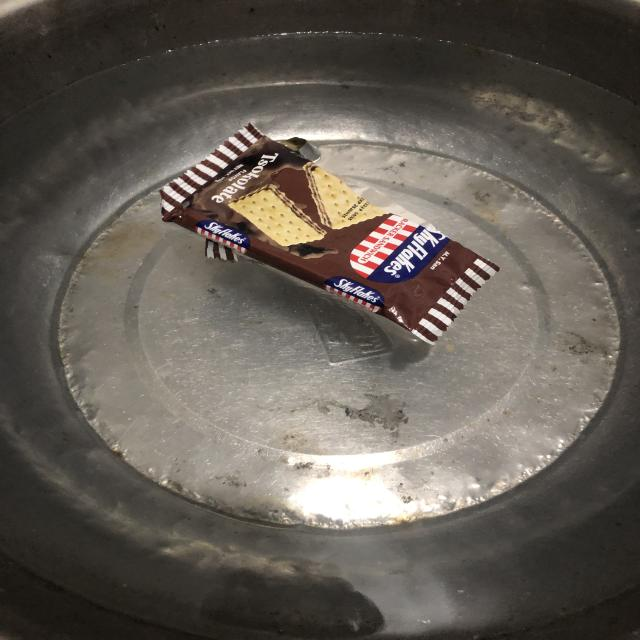Plastic Wrapper: (146, 127, 499, 363)
